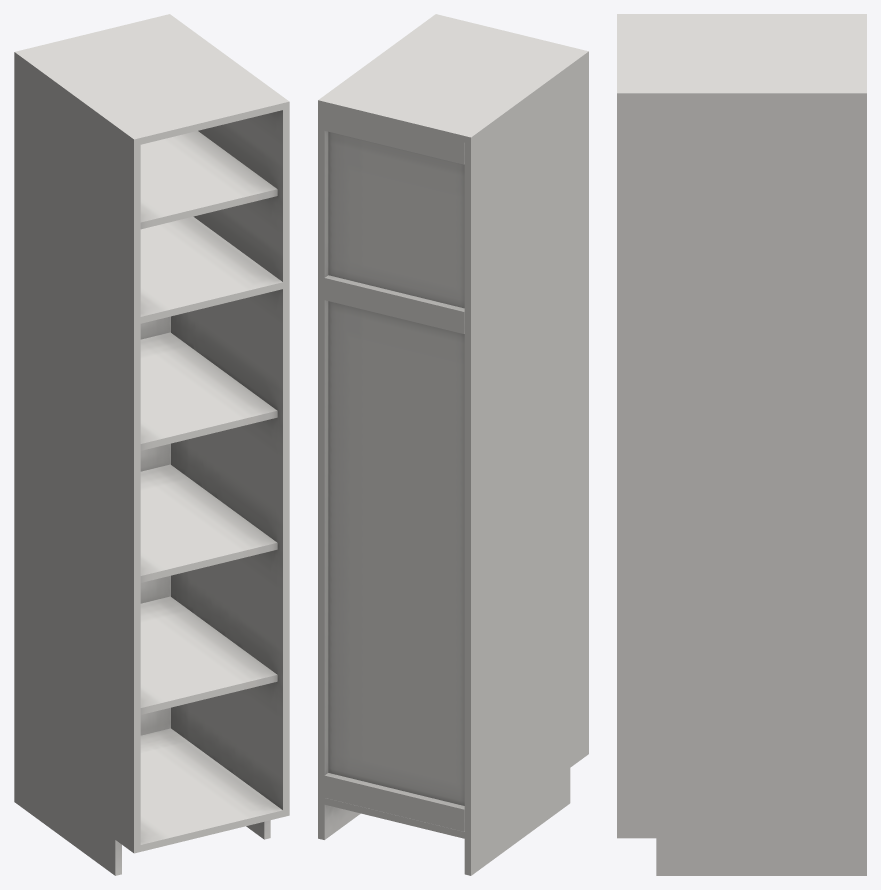
The model's file is tall-1-door-doors-off.glb.
3 views of the same model, side by side, from view 1: azimuth 30°, elevation 25°; view 2: azimuth 150°, elevation 25°; view 3: azimuth 270°, elevation 25° (orthographic). The views are drawn at different scales.
Visible parts, largest first — view 1: part_0; view 2: part_0; view 3: part_0.
Part boxes in pixels (x1,y1,x2,y2): part_0: (14, 14, 289, 875); part_0: (318, 14, 588, 875); part_0: (617, 14, 866, 875).
Bounding box in the file's own units: 0.4572 × 2.11 × 0.6096.
Materials: 1 (1 with a texture image).
